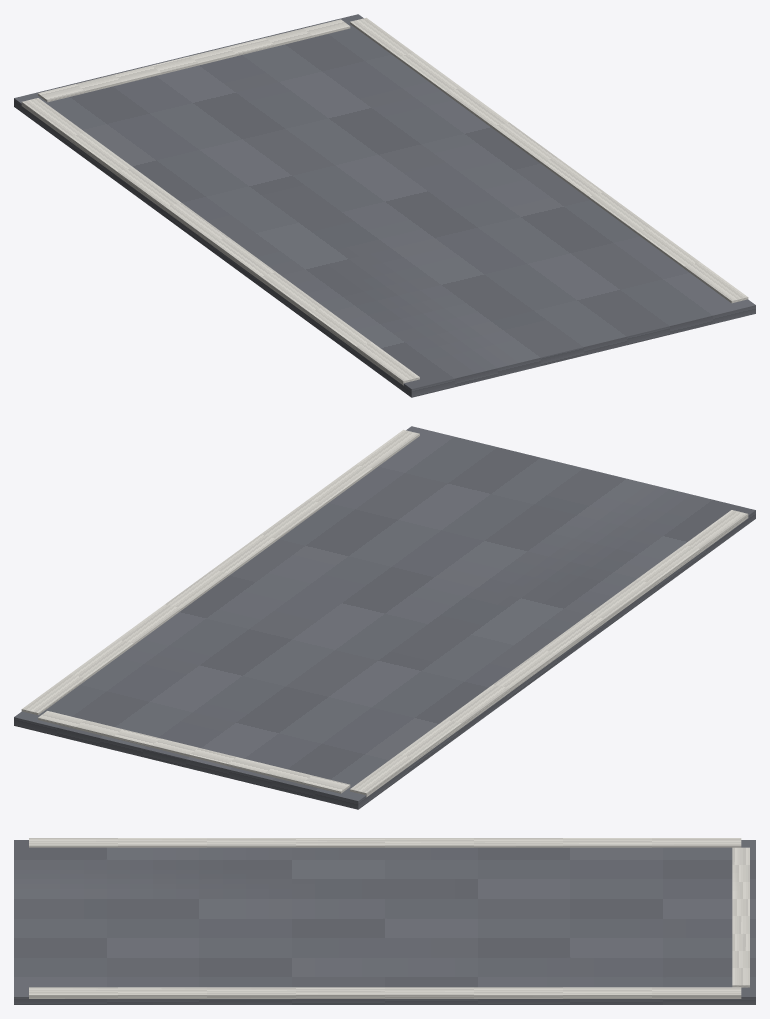
The model's file is pixel-modern-supermarket-car-park-bay-tile-aae25021__27972.glb.
3 views of the same model, one above another, from view 1: azimuth 30°, elevation 25°; view 2: azimuth 150°, elevation 25°; view 3: azimuth 270°, elevation 25° (orthographic). The views are drawn at different scales.
Parts seen in each view (by area): view 1: car-park-bay-tile; view 2: car-park-bay-tile; view 3: car-park-bay-tile.
Part boxes in pixels (x1=…): car-park-bay-tile: x1=14, y1=14, x2=755, y2=397; car-park-bay-tile: x1=14, y1=426, x2=755, y2=809; car-park-bay-tile: x1=14, y1=838, x2=755, y2=1004.
Bounding box in the file's own units: 2.5 × 0.075 × 5.
Materials: 2 (2 with a texture image).
